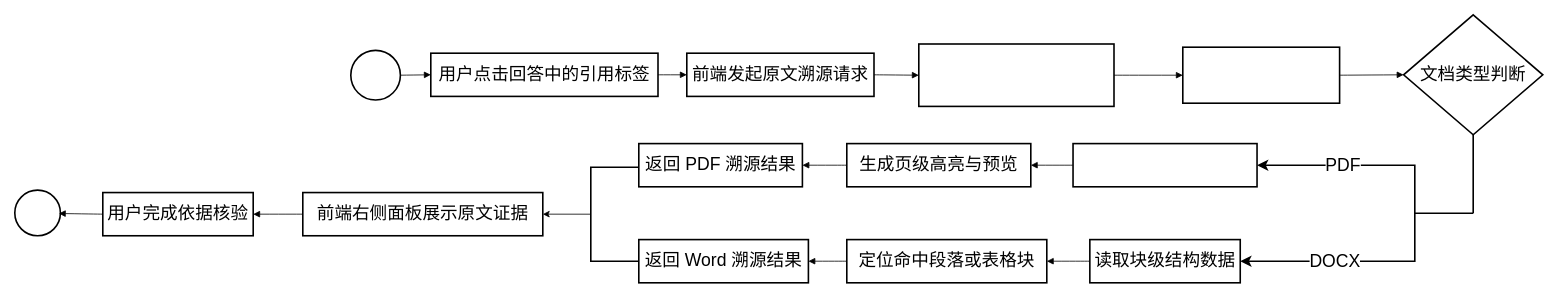
Some shapes in this 1557 by 297 pixel diagram are drawn without their labels. The shapes that lost their labels are listed below. From the top down, each one's centre as x and y in pixels, then its label:
(375,74): 开始
(1016,75): 后端解析 source 与 chunk 信息
(1261,75): 定位对应文档与切片元数据
(1164,164): 读取页级文本与坐标
(37,212): 结束
